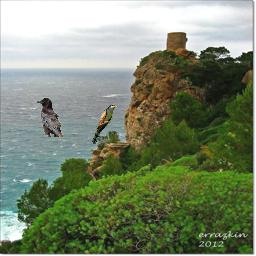Crow: (36, 97, 63, 137)
Cuckoo: (92, 104, 117, 144)
